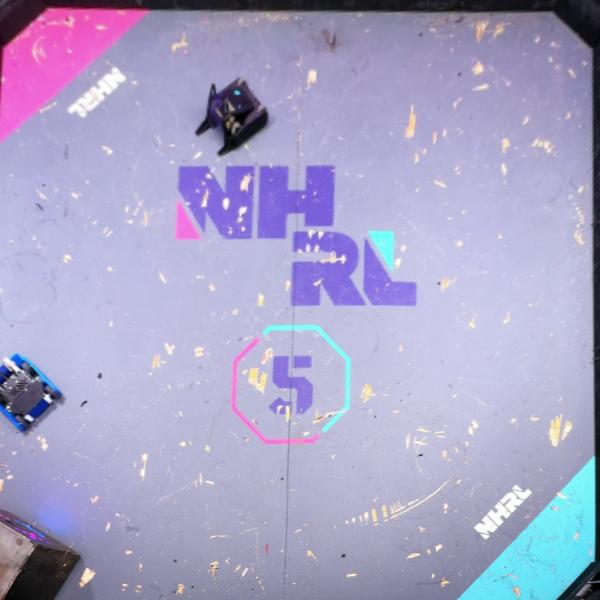housebot: (0, 506, 83, 600)
robot: (194, 76, 271, 154), (2, 351, 62, 434)
